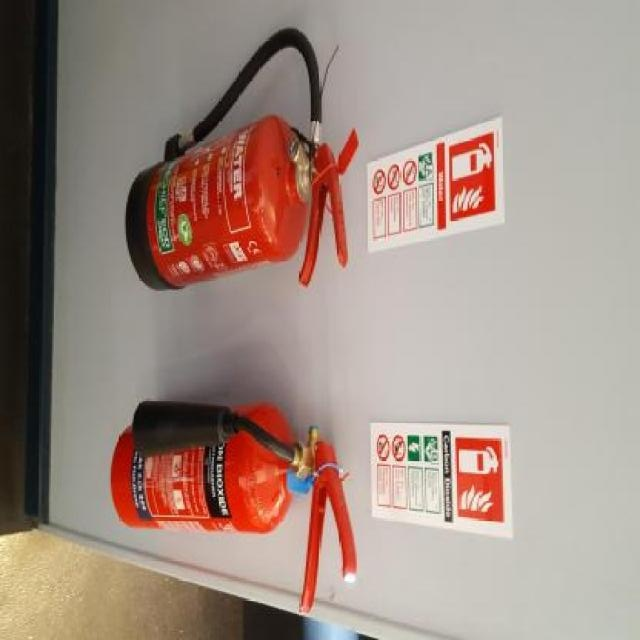fire extinguisher: (125, 26, 358, 289), (113, 400, 359, 605)
